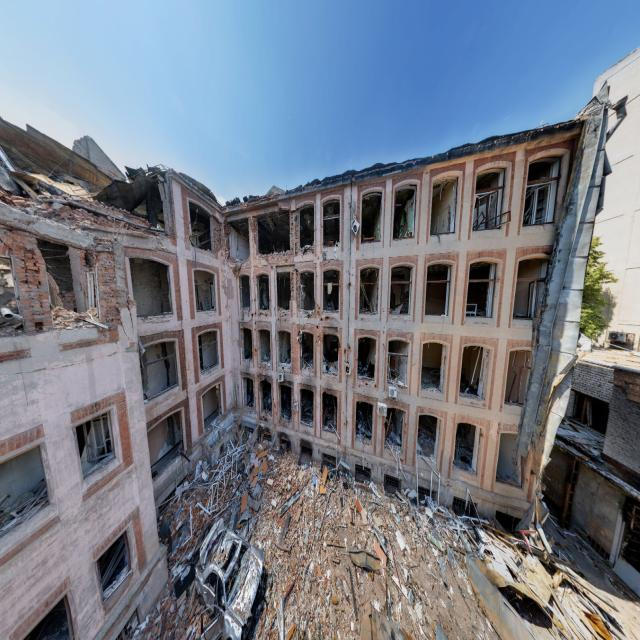broken_window: (74, 408, 115, 480), (94, 530, 132, 604), (129, 256, 172, 320), (140, 338, 178, 402), (472, 166, 505, 230), (465, 259, 496, 319), (429, 174, 457, 237), (424, 260, 451, 318), (419, 340, 446, 395), (392, 183, 417, 240), (453, 421, 479, 475), (188, 199, 212, 252), (360, 188, 382, 244), (389, 263, 412, 316), (358, 265, 379, 317), (197, 329, 220, 375), (193, 268, 216, 314), (322, 196, 341, 248), (322, 268, 339, 315)
building: (1, 47, 638, 635)
